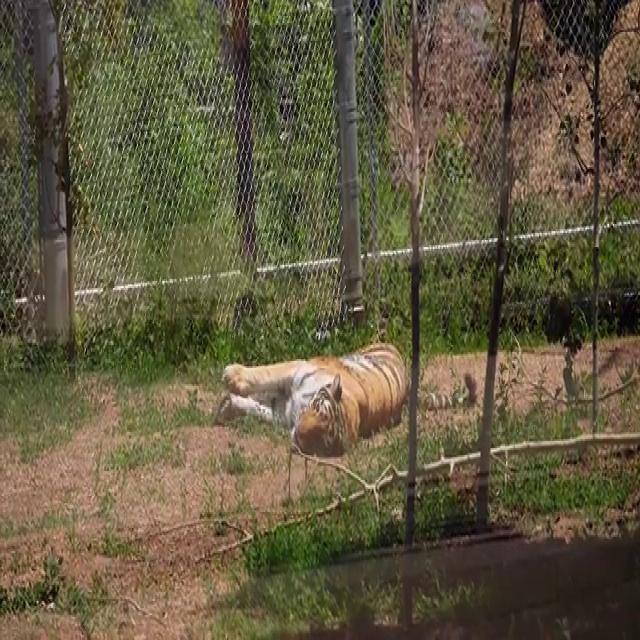tiger: (216, 340, 476, 456)
